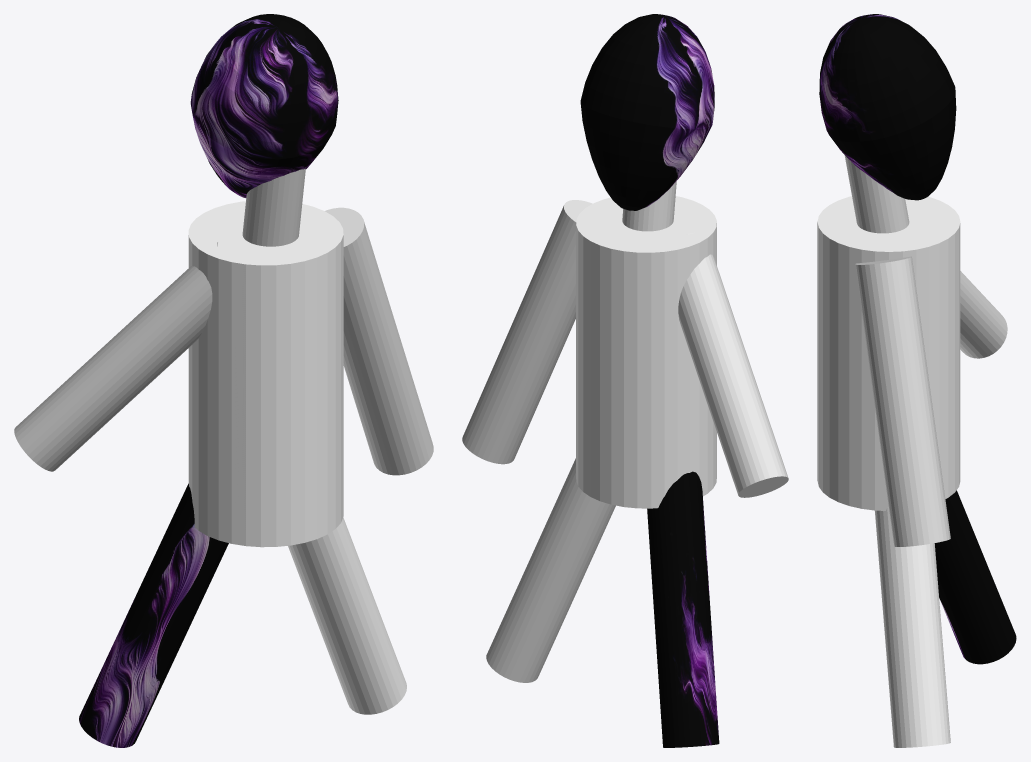
File: 3dumanoide.glb
The picture shows the model from 3 angles, left to right: view 1: azimuth 30°, elevation 25°; view 2: azimuth 150°, elevation 25°; view 3: azimuth 270°, elevation 25°; orthographic projection. The views are drawn at different scales.
Parts seen in each view (by area): view 1: Torso, Sfera.001, Cilindro.002, Cilindro, Cilindro.001, Cilindro.003, Cilindro.004; view 2: Torso, Sfera.001, Cilindro.002, Cilindro.001, Cilindro, Cilindro.003, Cilindro.004; view 3: Torso, Sfera.001, Cilindro.001, Cilindro.003, Cilindro.002, Cilindro, Cilindro.004.
Boxes of the visible parts, <box> form: Torso: <box>188,201,343,547</box>; Sfera.001: <box>190,14,338,197</box>; Cilindro.002: <box>79,483,228,747</box>; Cilindro: <box>14,242,218,471</box>; Cilindro.001: <box>325,207,433,475</box>; Cilindro.003: <box>288,517,406,714</box>; Cilindro.004: <box>242,168,305,246</box>; Torso: <box>576,196,716,508</box>; Sfera.001: <box>580,14,714,210</box>; Cilindro.002: <box>647,471,719,747</box>; Cilindro.001: <box>462,200,592,464</box>; Cilindro: <box>678,233,788,497</box>; Cilindro.003: <box>486,458,615,682</box>; Cilindro.004: <box>622,181,676,231</box>; Torso: <box>817,196,960,510</box>; Sfera.001: <box>819,14,956,200</box>; Cilindro.001: <box>855,256,950,546</box>; Cilindro.003: <box>875,506,950,747</box>; Cilindro.002: <box>934,490,1016,664</box>; Cilindro: <box>960,271,1007,358</box>; Cilindro.004: <box>844,155,909,233</box>.
Size of the model in its own units: 2.83 by 5.26 by 1.39.
4 materials, 2 textured.
